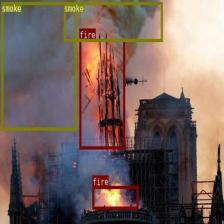fire: (79, 39, 125, 148), (92, 185, 138, 209)
smoke: (1, 2, 76, 130), (64, 2, 162, 41)
